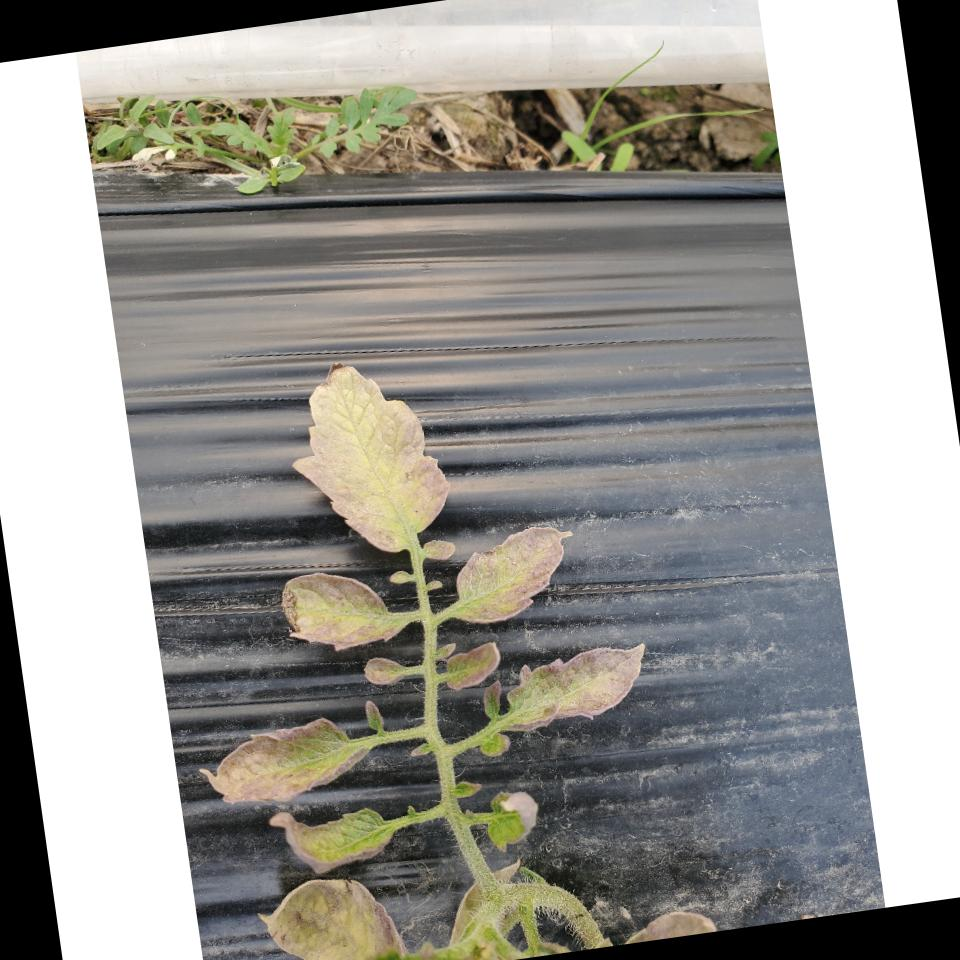tomato_yellow_leaf_curl_virus: (288, 344, 454, 554), (196, 714, 370, 806), (495, 638, 662, 730), (449, 523, 581, 619), (284, 561, 404, 659), (264, 792, 402, 876)
